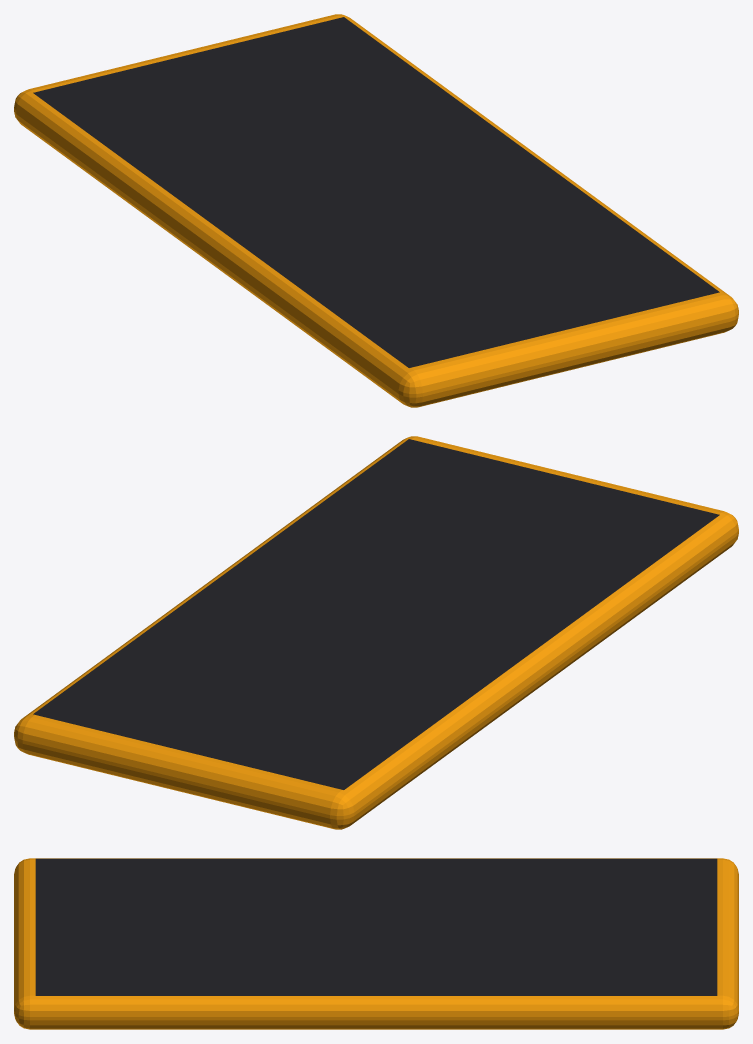
The model's file is Phone_563.glb.
3 views of the same model, one above another, from view 1: azimuth 30°, elevation 25°; view 2: azimuth 150°, elevation 25°; view 3: azimuth 270°, elevation 25° (orthographic). The views are drawn at different scales.
Visible parts, largest first — view 1: Phone_Screen, Phone_Body; view 2: Phone_Screen, Phone_Body; view 3: Phone_Screen, Phone_Body.
Part boxes in pixels (x1=…): Phone_Screen: x1=33, y1=17, x2=719, y2=367; Phone_Body: x1=14, y1=14, x2=738, y2=407; Phone_Screen: x1=33, y1=439, x2=719, y2=789; Phone_Body: x1=14, y1=436, x2=738, y2=829; Phone_Screen: x1=35, y1=858, x2=717, y2=995; Phone_Body: x1=14, y1=858, x2=738, y2=1029.
Size of the model in its own units: 0.079 by 0.0081 by 0.1619.
